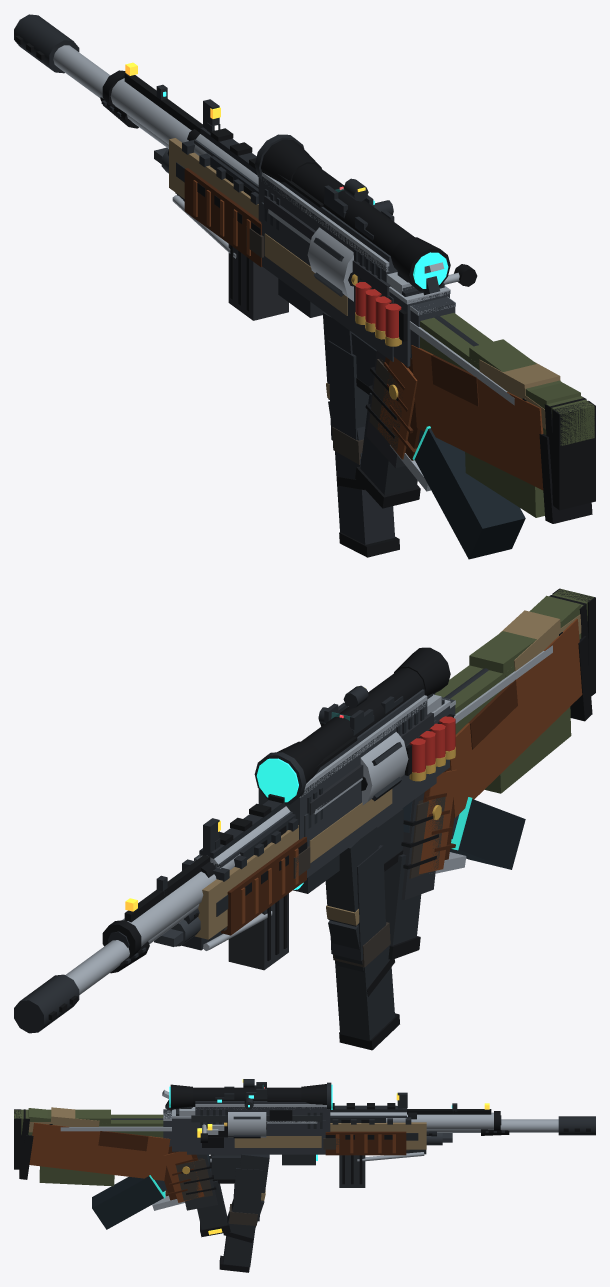
File: guns.glb
3 views of the same model, one above another, from view 1: azimuth 30°, elevation 25°; view 2: azimuth 150°, elevation 25°; view 3: azimuth 270°, elevation 25° (orthographic). The views are drawn at different scales.
Visible parts, largest first — view 1: g_sniper, g_shotgun, mag- (×4), g_smg, hand, g_rifle, g_magnum, slide-, pump-, g_pistol, drum-; view 2: g_shotgun, g_sniper, mag- (×4), g_smg, g_rifle, g_magnum, slide-, hand, pump-, g_pistol, drum-; view 3: g_shotgun, g_sniper, g_smg, mag- (×4), g_rifle, g_magnum, hand, slide-, g_pistol, pump-, drum-.
Boxes of the visible parts, <box> form: g_sniper: <box>14,14,595,517</box>; g_shotgun: <box>102,62,592,523</box>; mag- (×4): <box>322,312,420,557</box>; g_smg: <box>167,122,526,405</box>; hand: <box>412,426,525,559</box>; g_rifle: <box>100,84,586,482</box>; g_magnum: <box>187,99,430,491</box>; slide-: <box>258,172,397,288</box>; pump-: <box>184,168,263,266</box>; g_pistol: <box>278,278,408,468</box>; drum-: <box>307,227,357,301</box>; g_shotgun: <box>102,618,592,957</box>; g_sniper: <box>14,588,595,1033</box>; mag- (×4): <box>325,808,421,1050</box>; g_smg: <box>184,632,562,970</box>; g_rifle: <box>110,595,588,973</box>; g_magnum: <box>194,693,466,877</box>; slide-: <box>258,689,427,839</box>; hand: <box>402,797,525,869</box>; pump-: <box>221,837,310,935</box>; g_pistol: <box>293,792,445,900</box>; drum-: <box>360,732,408,805</box>; g_shotgun: <box>19,1103,501,1180</box>; g_sniper: <box>14,1079,595,1186</box>; g_smg: <box>49,1082,436,1187</box>; mag- (×4): <box>197,1154,269,1272</box>; g_rifle: <box>21,1086,509,1162</box>; g_magnum: <box>152,1092,416,1210</box>; hand: <box>92,1154,210,1229</box>; slide-: <box>195,1099,330,1131</box>; g_pistol: <box>174,1152,317,1210</box>; pump-: <box>323,1131,406,1155</box>; drum-: <box>224,1112,266,1138</box>.
Size of the model in its own units: 0.2171 by 0.672 by 1.87.
